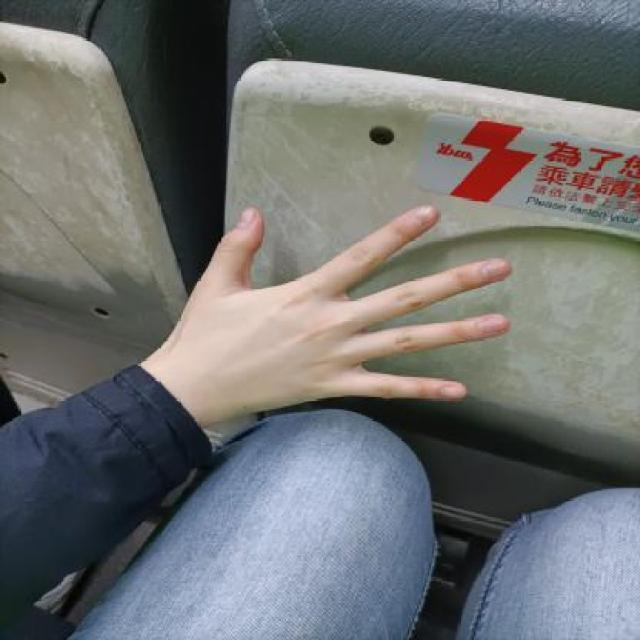bare_hand: (122, 172, 530, 437)
